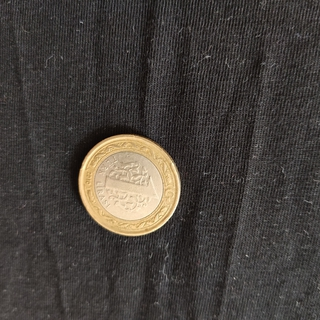1TL: (76, 132, 182, 237)
